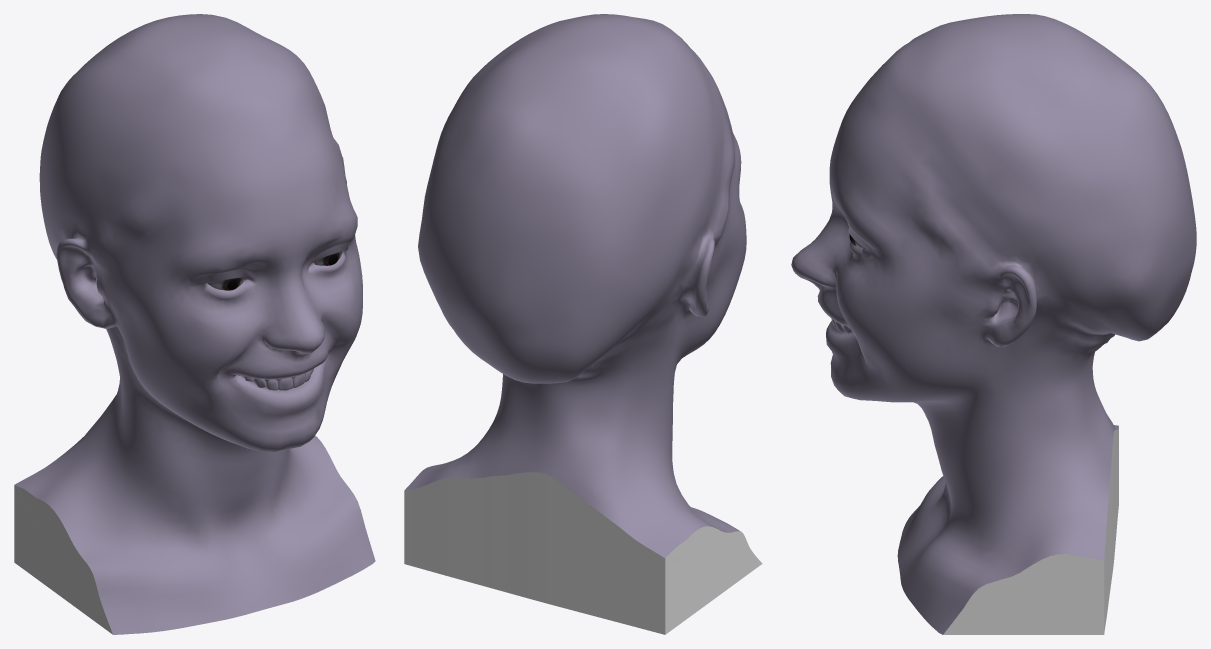
Rendered from 石膏头像_女童_20260324184401_opt.glb.
The picture shows the model from 3 angles, left to right: view 1: azimuth 30°, elevation 25°; view 2: azimuth 150°, elevation 25°; view 3: azimuth 270°, elevation 25°; orthographic projection.
Parts seen in each view (by area): view 1: AmySmile_UV_LOW, AmySmile_UV_LOW001, teethreduced, LeftEyeLow; view 2: AmySmile_UV_LOW, AmySmile_UV_LOW001; view 3: AmySmile_UV_LOW, AmySmile_UV_LOW001.
Part boxes in pixels (x1,y1,x2,y2): AmySmile_UV_LOW: (14,14,375,634); AmySmile_UV_LOW001: (14,485,360,634); teethreduced: (238,368,314,390); LeftEyeLow: (207,251,342,290); AmySmile_UV_LOW: (405,14,746,557); AmySmile_UV_LOW001: (404,472,762,634); AmySmile_UV_LOW: (791,14,1196,634); AmySmile_UV_LOW001: (925,427,1118,634).
Size of the model in its own units: 0.2125 by 0.4 by 0.2746.
4 materials, 1 textured.
